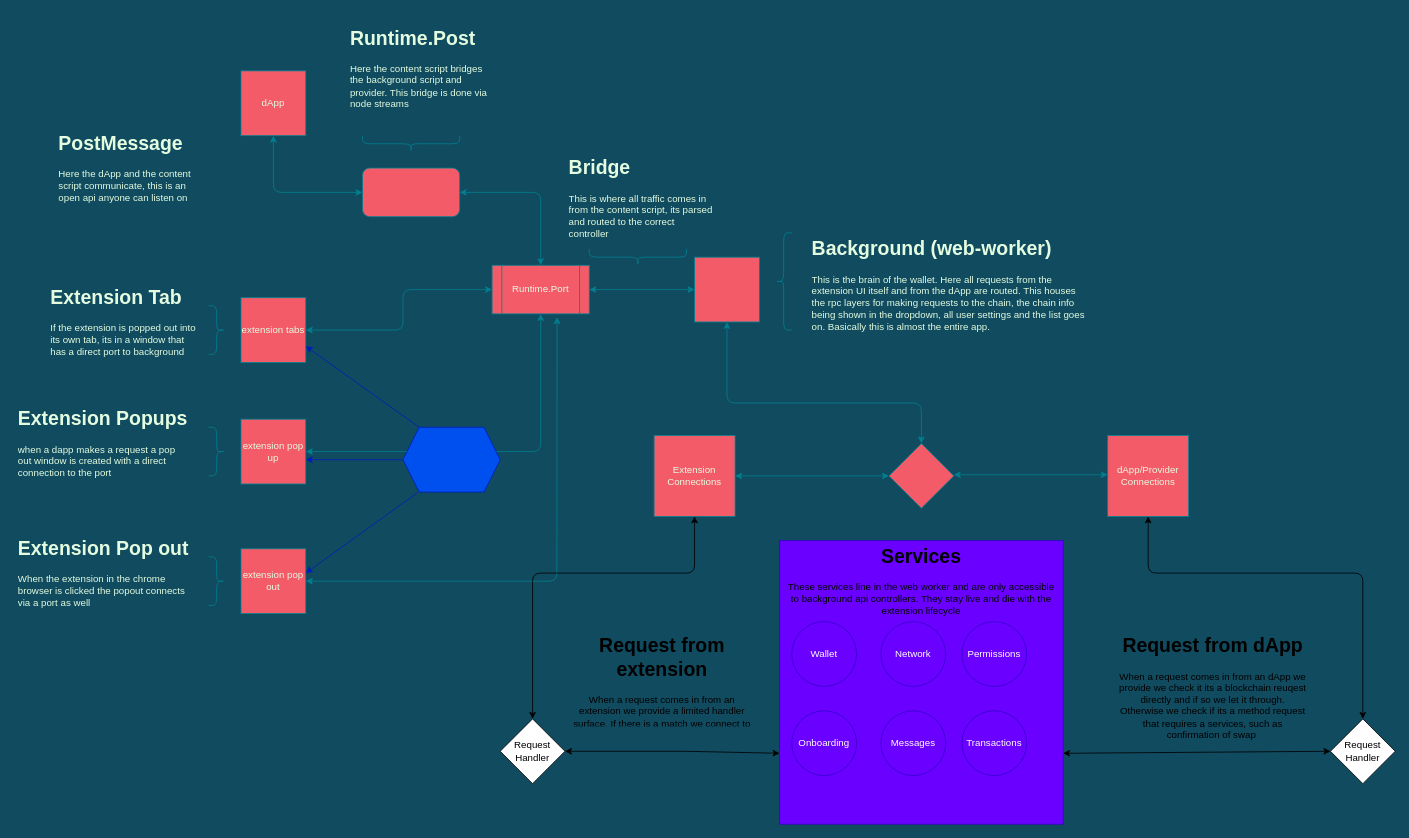
This 1409x838 diagram has some shape labels left out. Here are the shapes that lost their labels. From the top down, the centre of each, then its label:
At (x=411, y=192): "Content Script".
At (x=726, y=289): "Background.js".
At (x=451, y=459): "React App".
At (x=921, y=475): "Traffic Controller".
